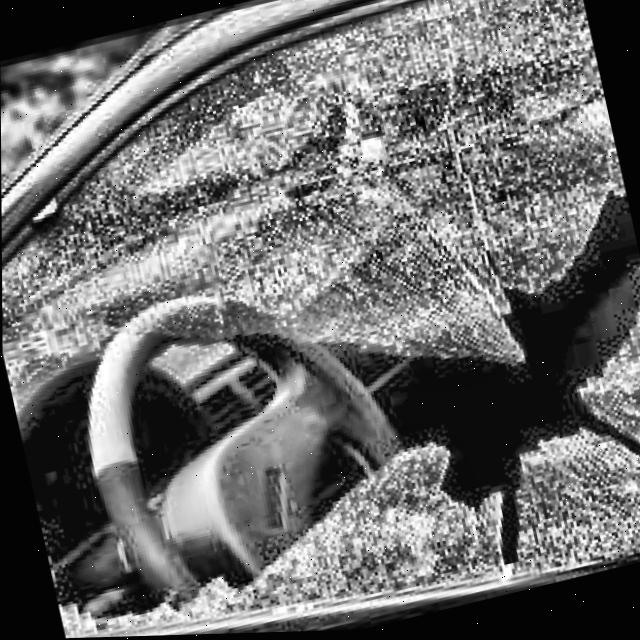glass_shatter: (2, 189, 640, 640)
